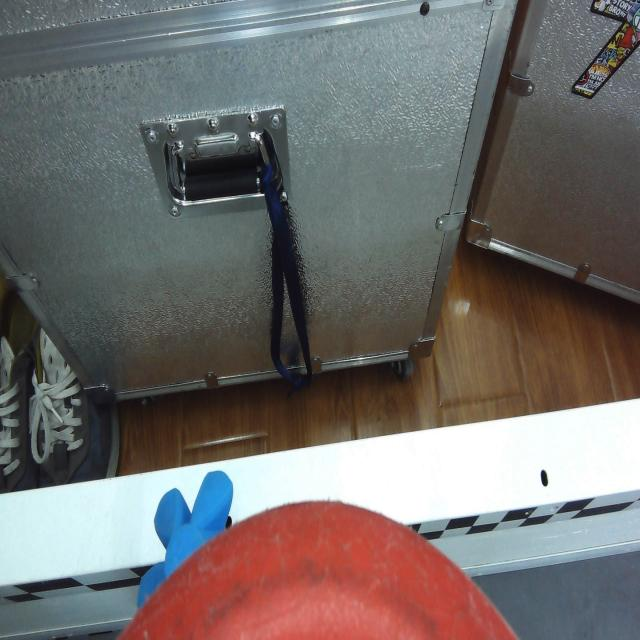zblue-Stake-Head: (137, 470, 232, 607)
